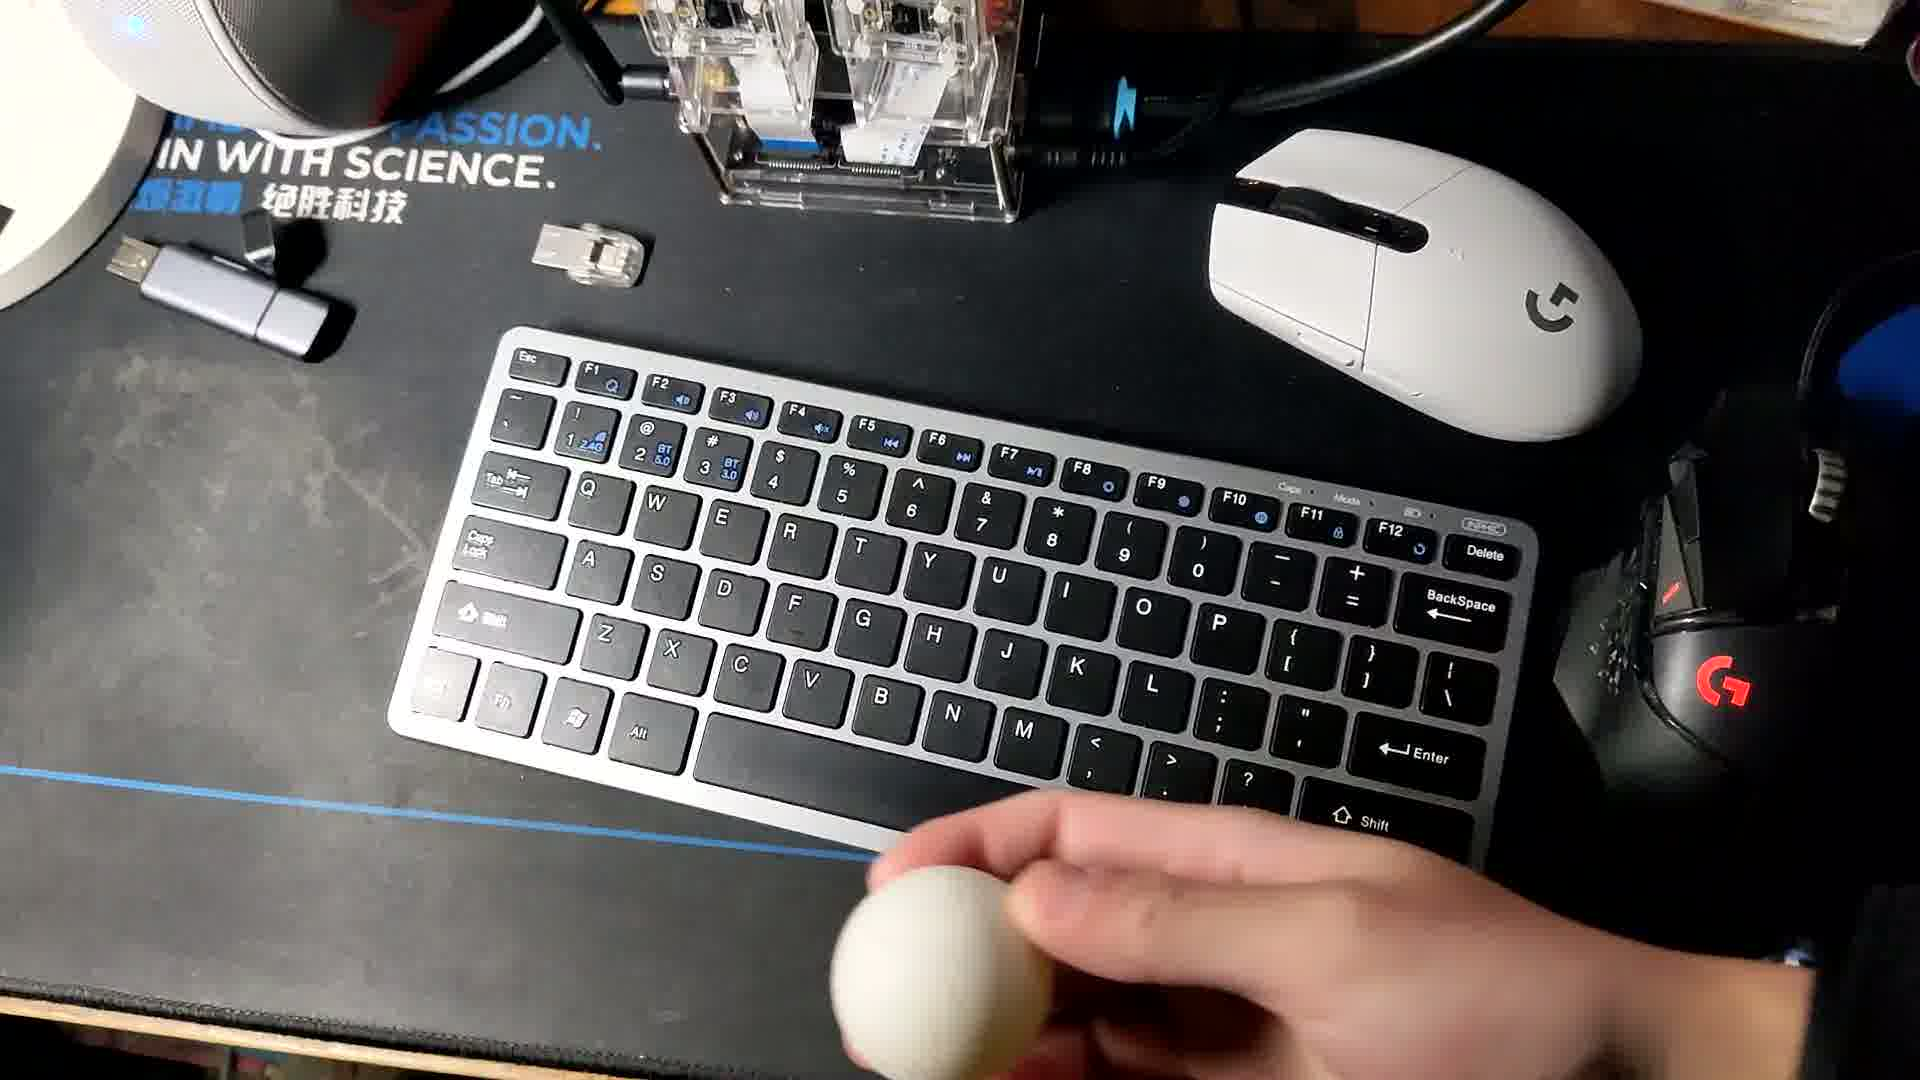Ball: (823, 861, 1062, 1080)
